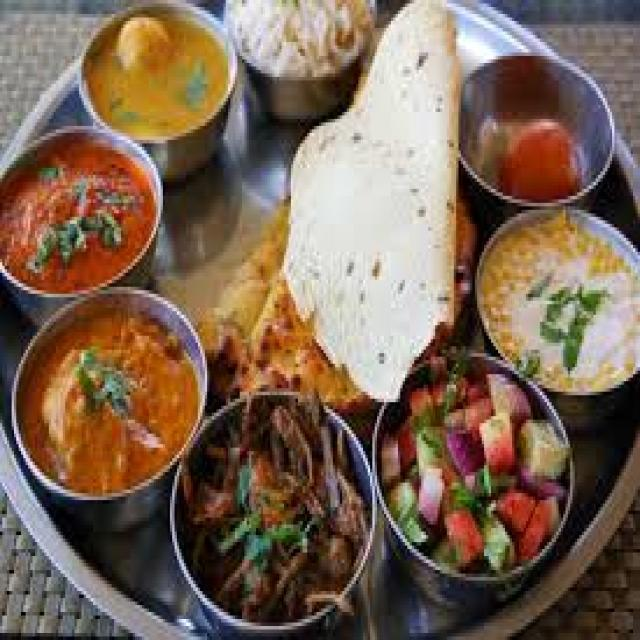curd: (471, 206, 640, 413)
dal: (78, 0, 232, 161)
papad: (281, 33, 466, 396)
rice: (287, 56, 458, 409), (469, 199, 640, 416)
sambar-rasam: (459, 45, 606, 218)
sweet: (18, 292, 203, 514)
veg-fry: (16, 292, 202, 517), (0, 126, 159, 312)
